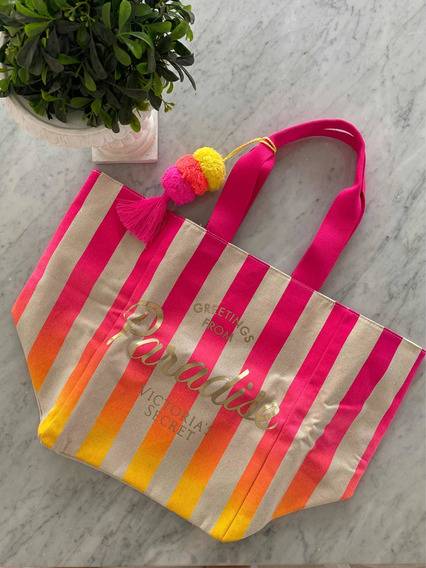cartera: (11, 118, 426, 544)
